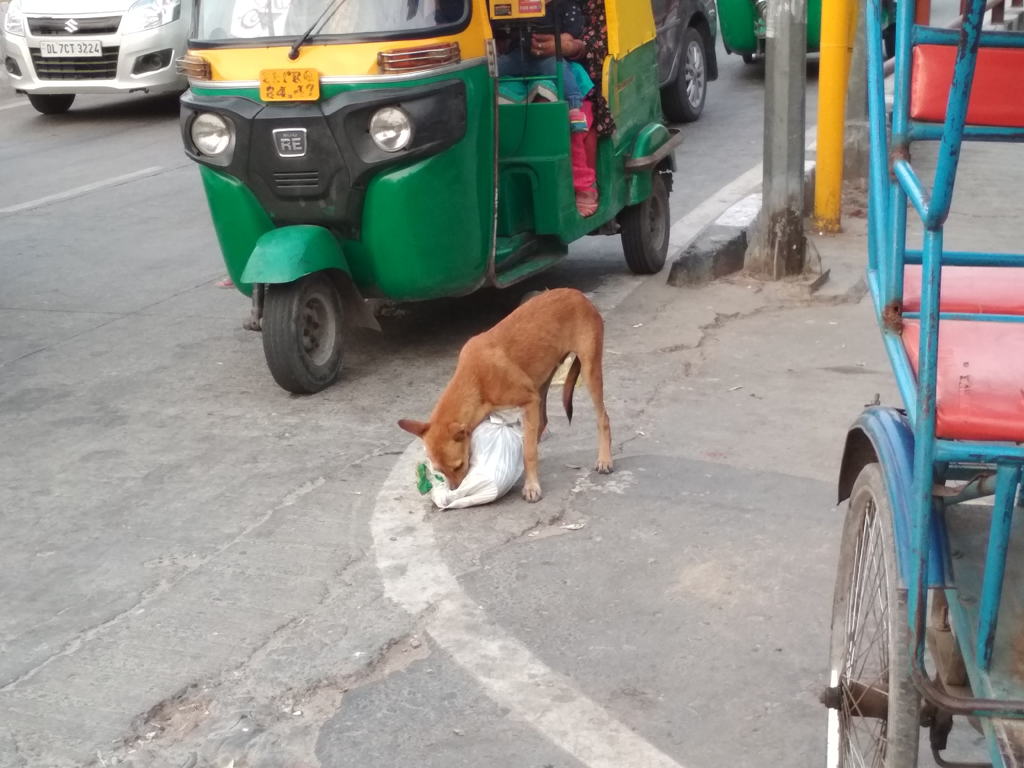dog: (399, 287, 614, 501)
